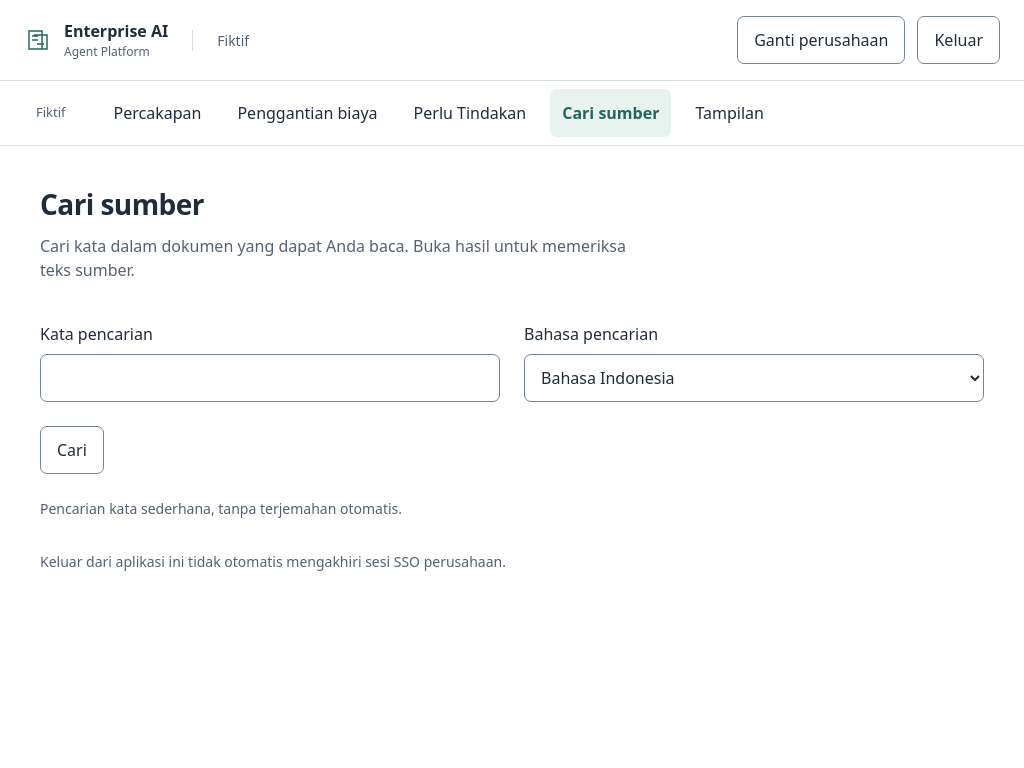
Test: discards a cancelled old query response when a newer query is submitted
The width and height of the screenshot is (1024, 768).
Type "slow" into the field labelled "Kata pencarian".
click(270, 378); type("slow")  # box [40,354,500,402]
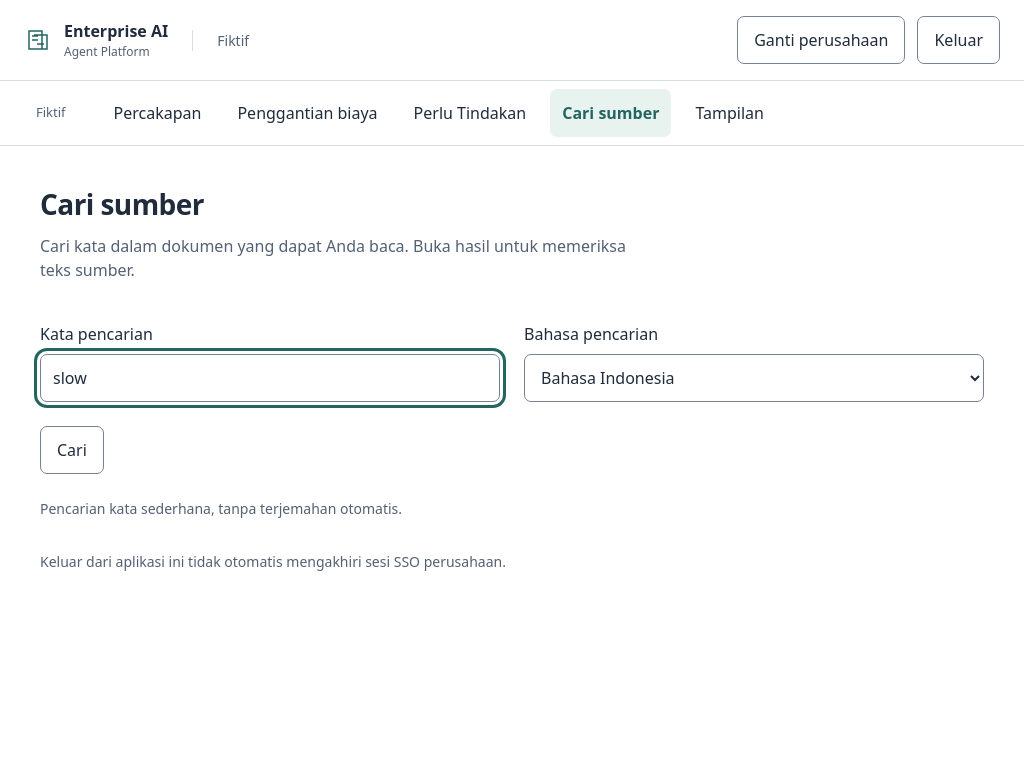
Click the button "Cari".
click(72, 450)  # box [40,426,104,474]
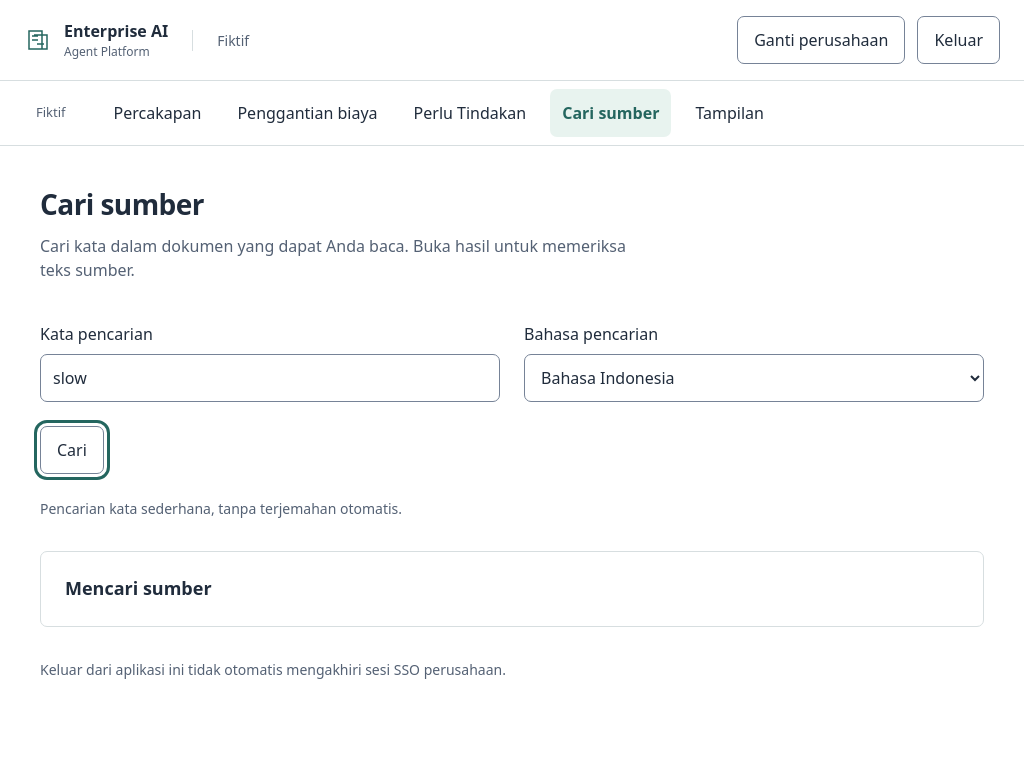
Replace the text in the field labelled "Kata pencarian" with "current" at (270, 378), box [40,354,500,402]
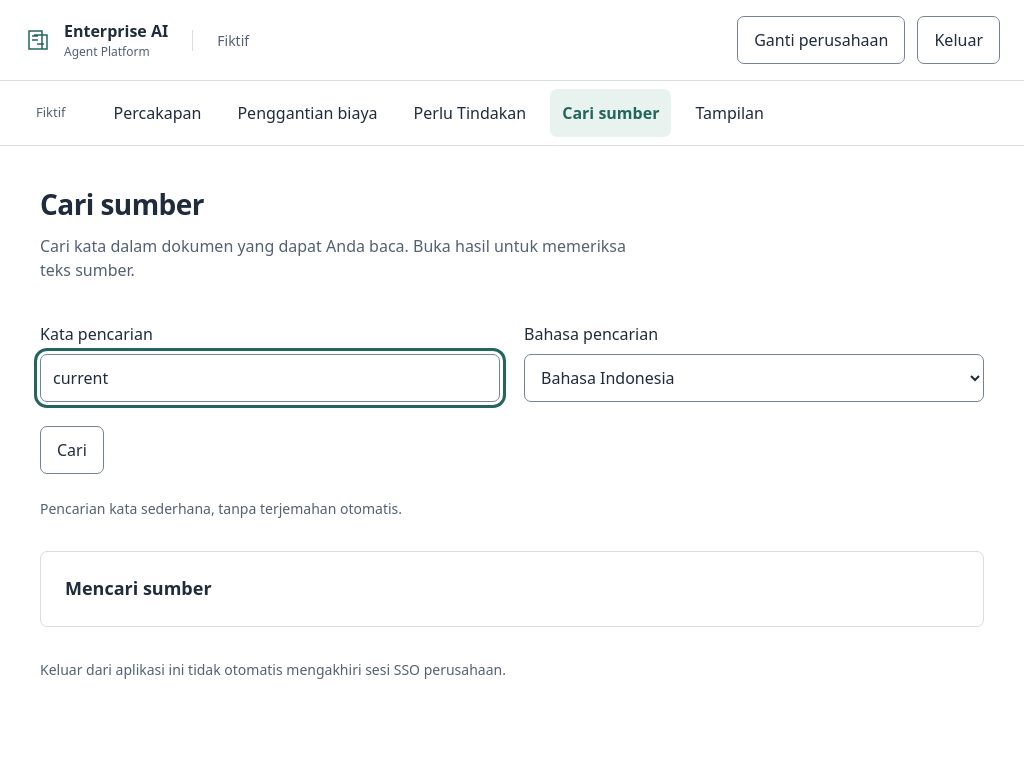
Click the button "Cari".
click(72, 450)  # box [40,426,104,474]
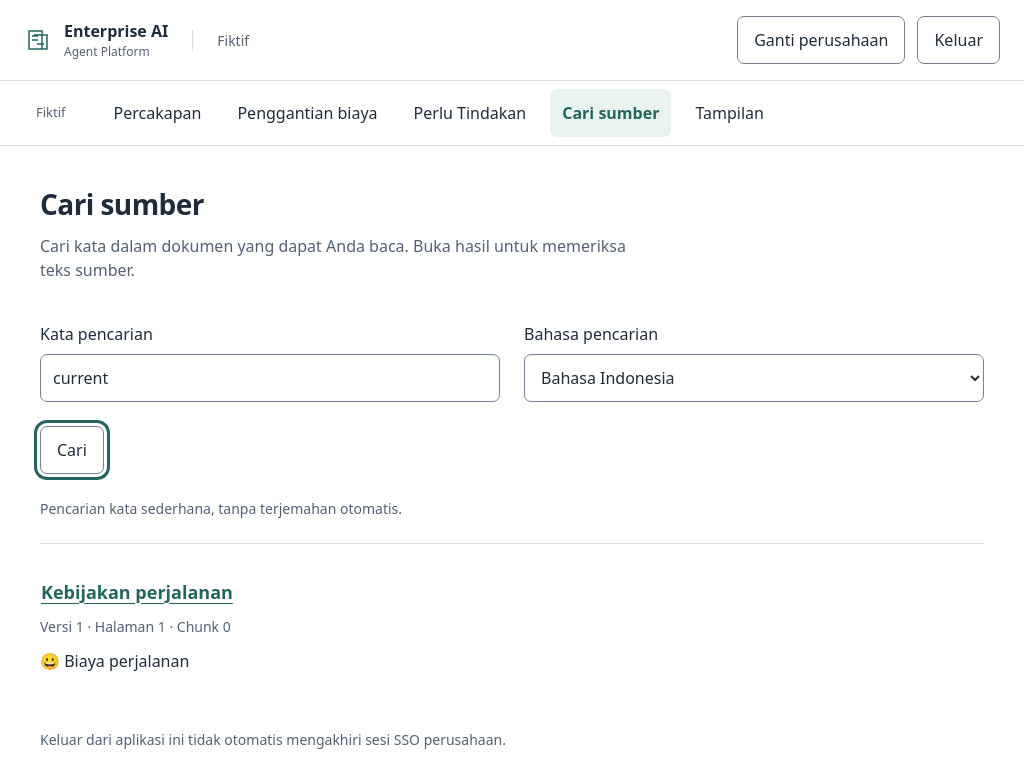
Check: the button "Keluar" is shown, box [918,16,1000,64]
Check: the button "Kebijakan perjalanan" is shown, box [40,568,234,616]
